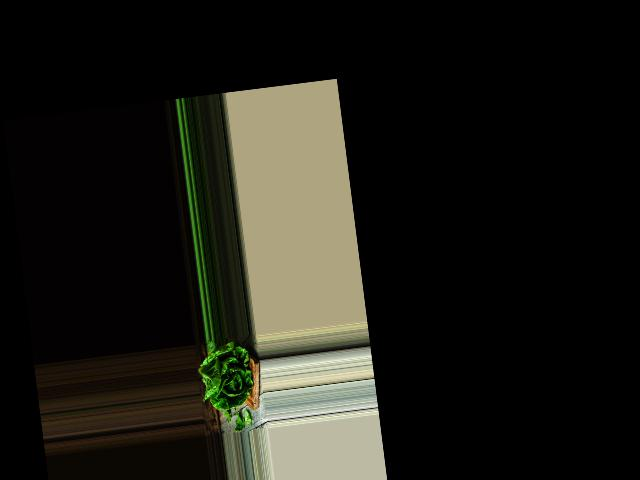lettuce: (196, 338, 258, 409)
